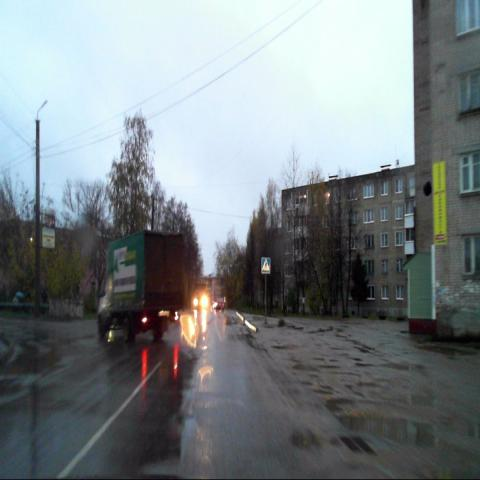5_19_1: (262, 257, 270, 273)
